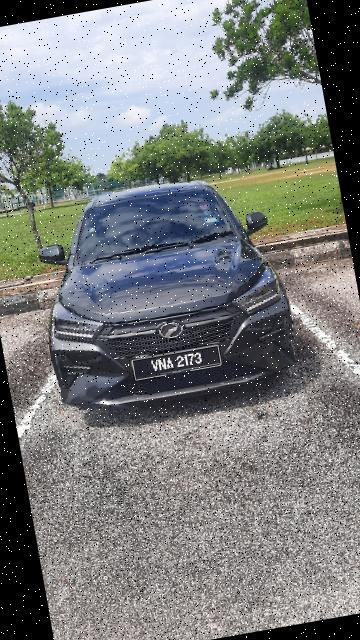License_Plate: (129, 340, 226, 385)
car: (24, 160, 304, 427)
